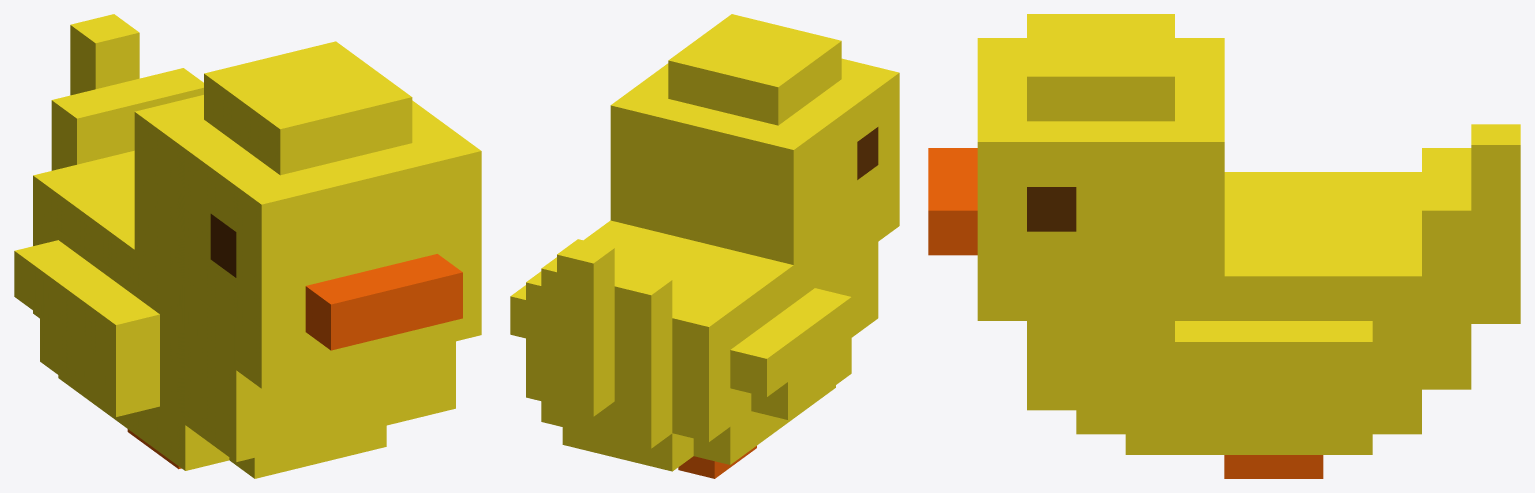
Rendered from duck.gltf.
The picture shows the model from 3 angles, left to right: view 1: azimuth 30°, elevation 25°; view 2: azimuth 150°, elevation 25°; view 3: azimuth 270°, elevation 25°; orthographic projection. The views are drawn at different scales.
Visible parts, largest first — view 1: Layer.1; view 2: Layer.1; view 3: Layer.1.
Boxes of the visible parts, x1,y1,x2,y2 form: Layer.1: (14, 14, 481, 478); Layer.1: (510, 14, 899, 478); Layer.1: (928, 14, 1520, 478).
Size of the model in its own units: 7 by 9 by 12.
1 material, 1 textured.
